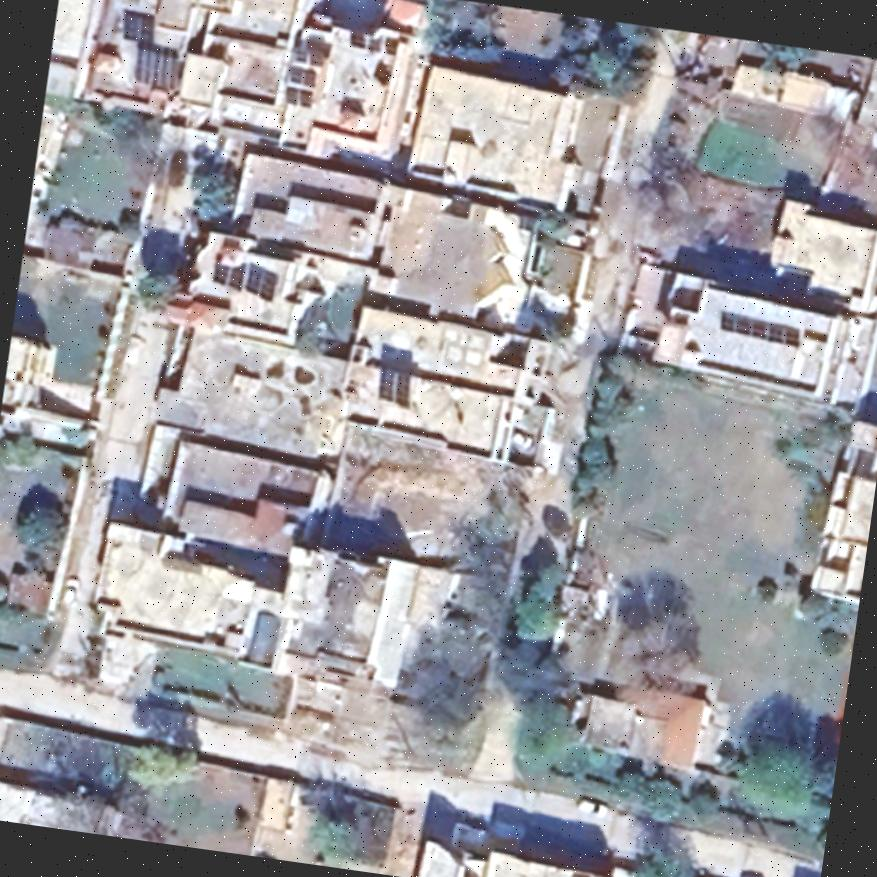Solarpanel: (710, 302, 808, 351), (205, 247, 284, 306), (126, 38, 188, 94), (371, 356, 418, 410)
